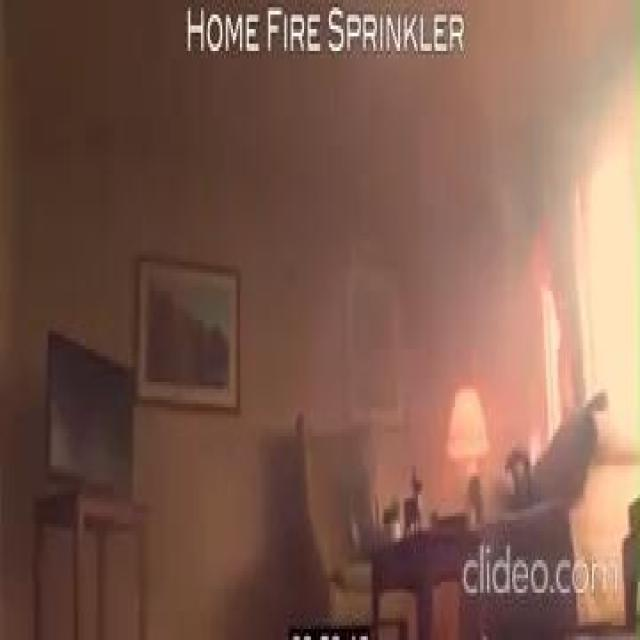fire: (333, 2, 639, 231)
smoke: (536, 276, 570, 451)
